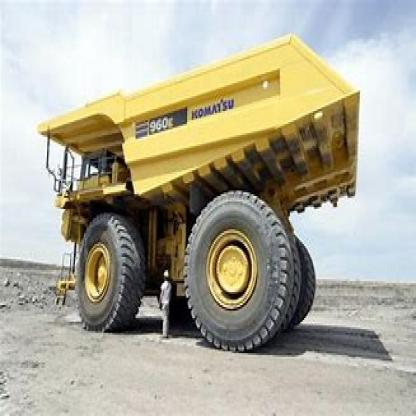dump_truck: (29, 32, 368, 350)
